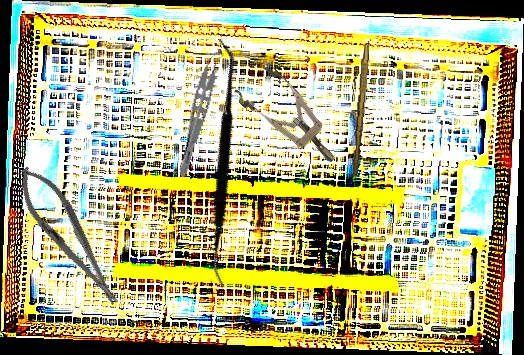Needle Holder: (7, 158, 131, 315)
Scalpel Handle: (351, 42, 370, 177)
Spatula Surgical: (113, 36, 330, 290)
Speculum: (230, 59, 351, 179)
Tissue Forceps: (175, 49, 227, 181)
